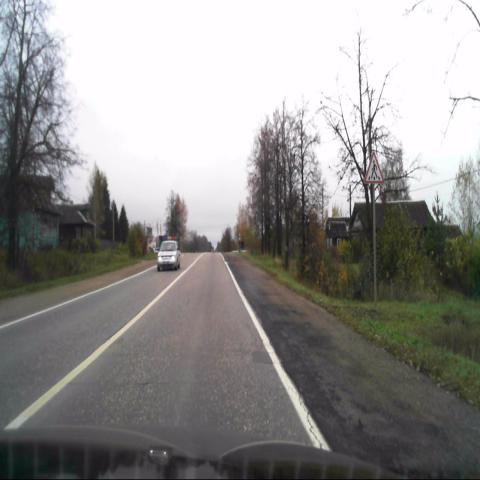1_22: (363, 150, 384, 184)
